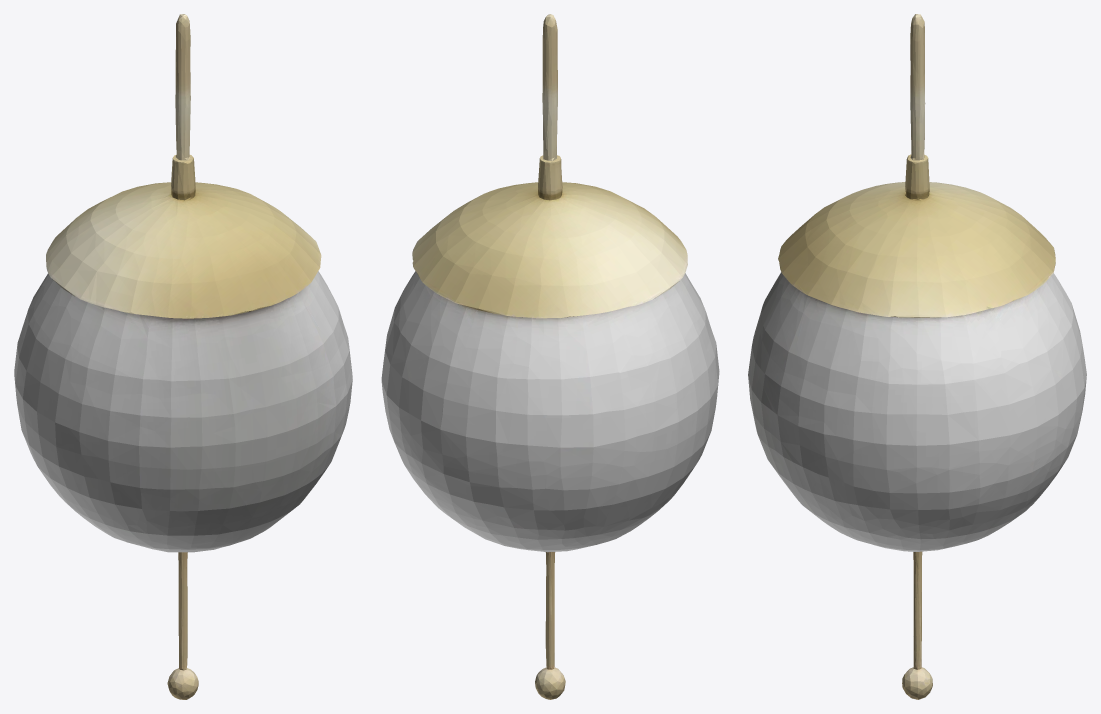
3 renders of one model, left to right at view 1: azimuth 30°, elevation 25°; view 2: azimuth 150°, elevation 25°; view 3: azimuth 270°, elevation 25°, orthographic.
Visible parts, largest first — view 1: world; view 2: world; view 3: world.
Boxes of the visible parts, x1=… form: world: x1=14, y1=14, x2=352, y2=699; world: x1=381, y1=14, x2=719, y2=699; world: x1=748, y1=14, x2=1086, y2=699.
Bounding box in the file's own units: 0.448 × 0.9986 × 0.448.
1 material, 1 textured.
